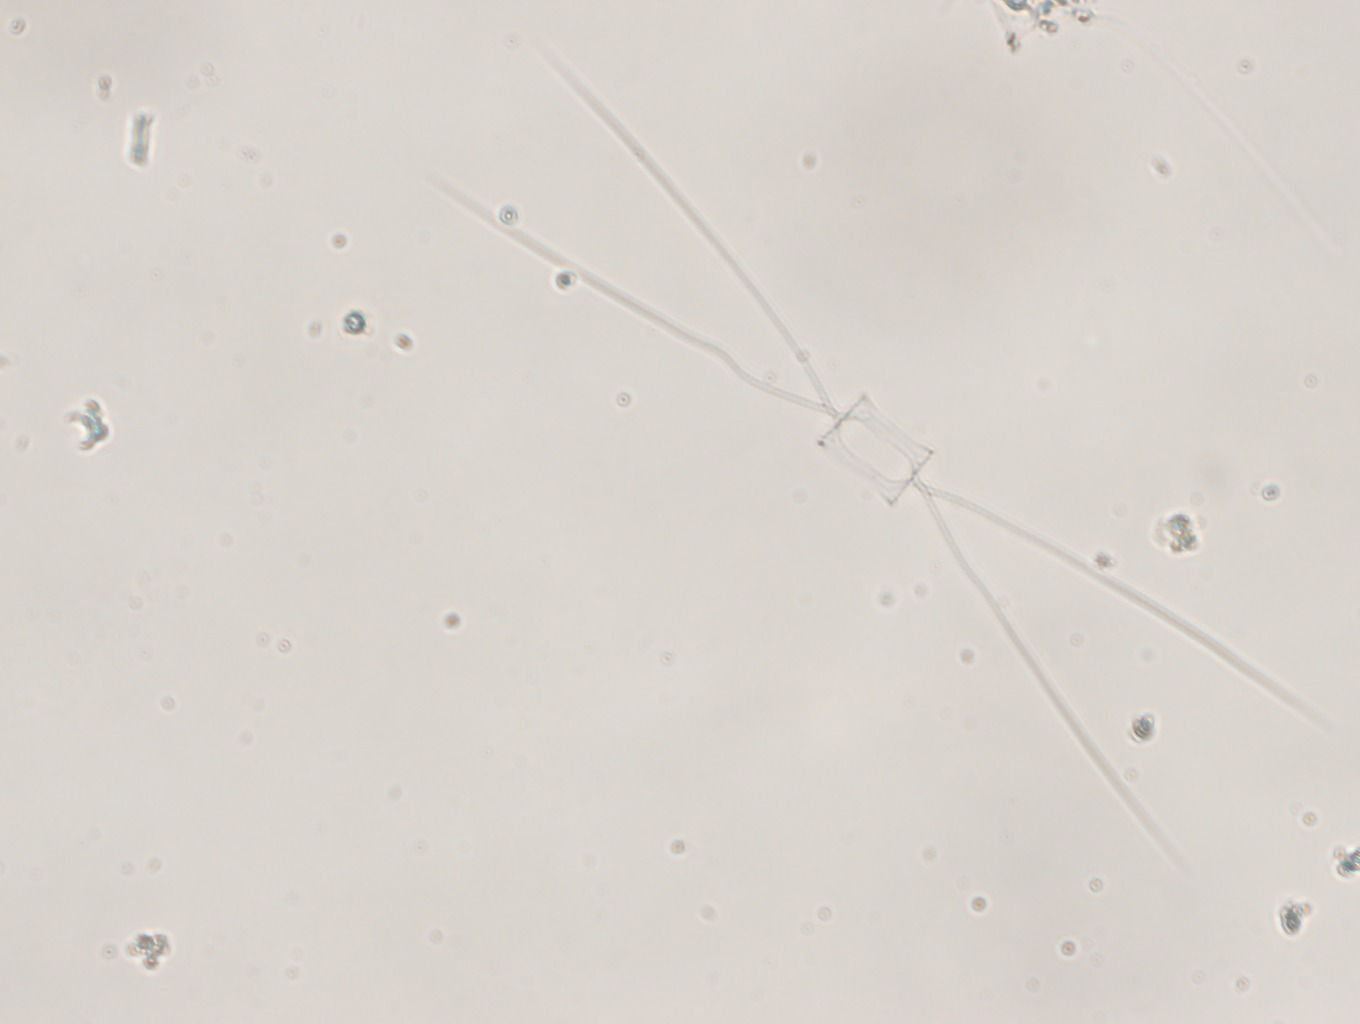chaetoceros: (429, 39, 1356, 866)
